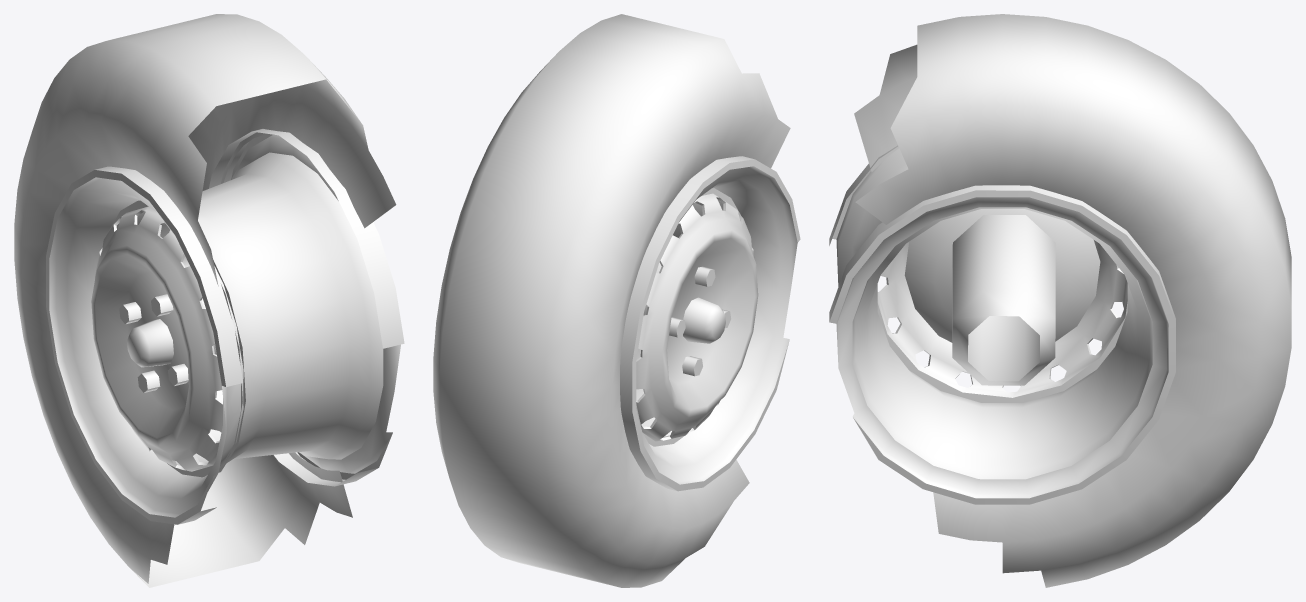
3 renders of one model, left to right at view 1: azimuth 30°, elevation 25°; view 2: azimuth 150°, elevation 25°; view 3: azimuth 270°, elevation 25°, orthographic. The views are drawn at different scales.
Size of the model in its own units: 0.2603 by 0.6187 by 0.4962.
Materials: 1 (1 with a texture image).
